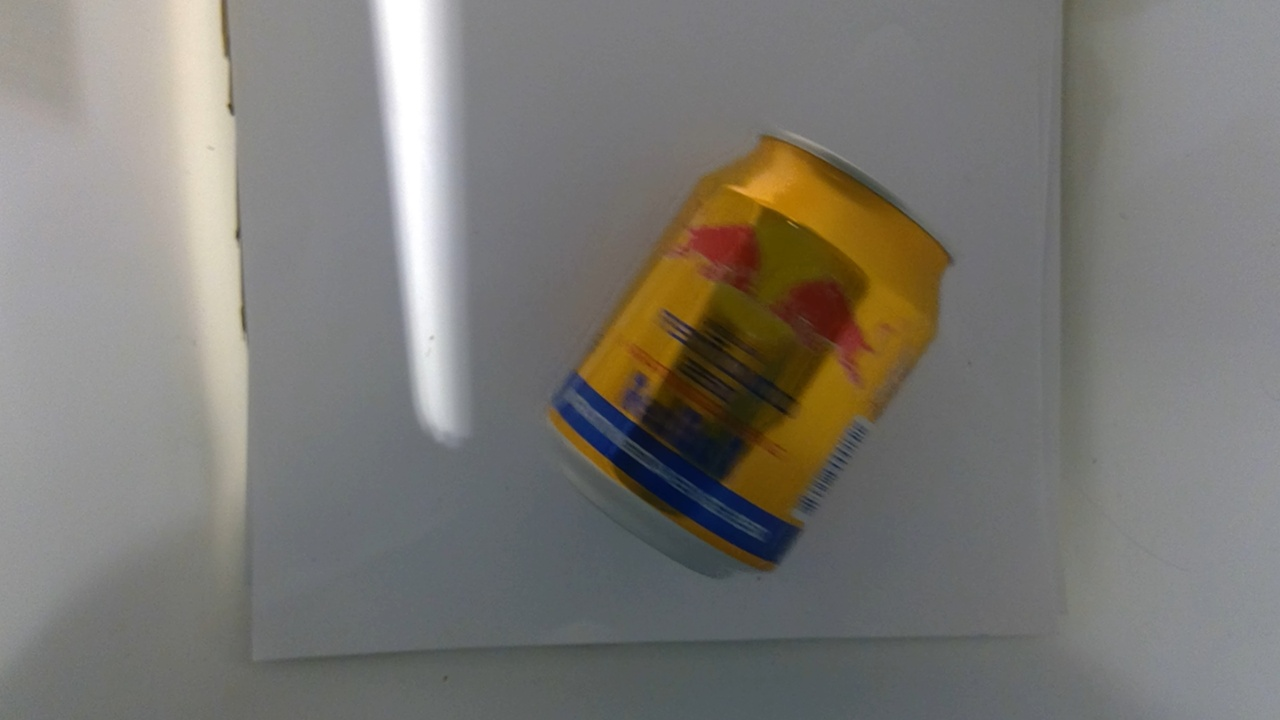bottle: (545, 121, 962, 589)
